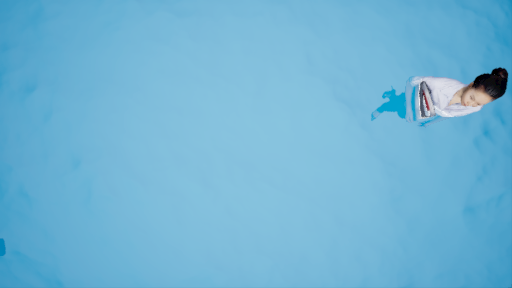person: (367, 61, 503, 134)
